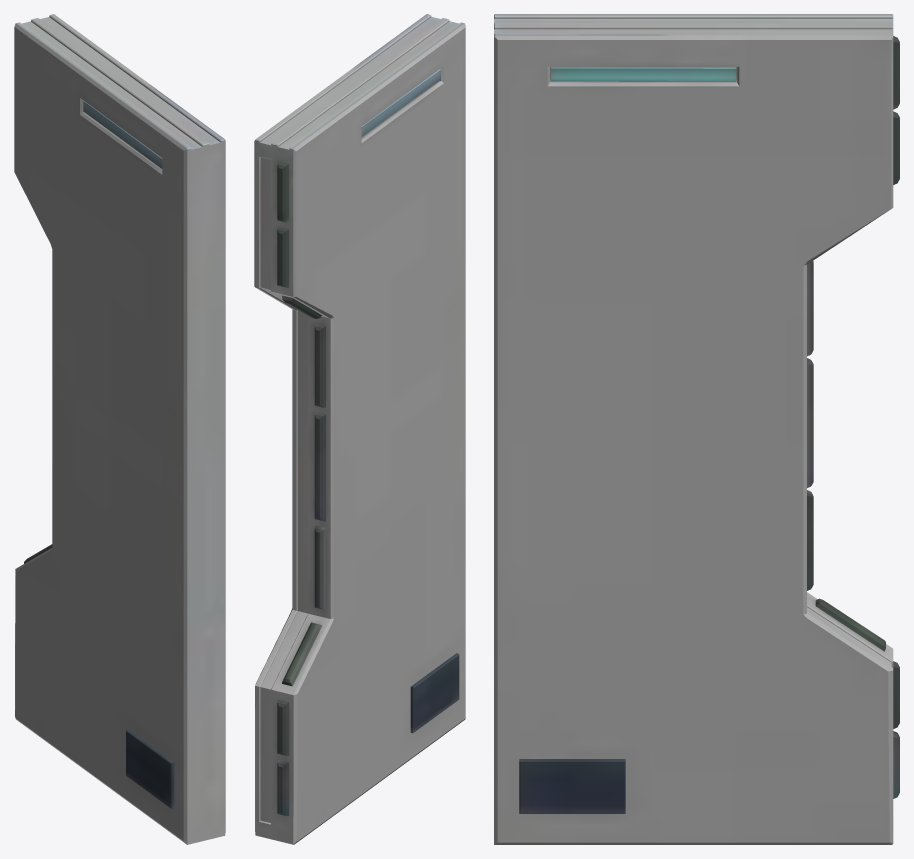
The model's file is SM_Door_L_SF_104d9d.glb.
The picture shows the model from 3 angles, left to right: view 1: azimuth 30°, elevation 25°; view 2: azimuth 150°, elevation 25°; view 3: azimuth 270°, elevation 25°; orthographic projection. The views are drawn at different scales.
Bounding box in the file's own units: 0.1689 × 2.32 × 1.05.
1 material, 1 textured.
